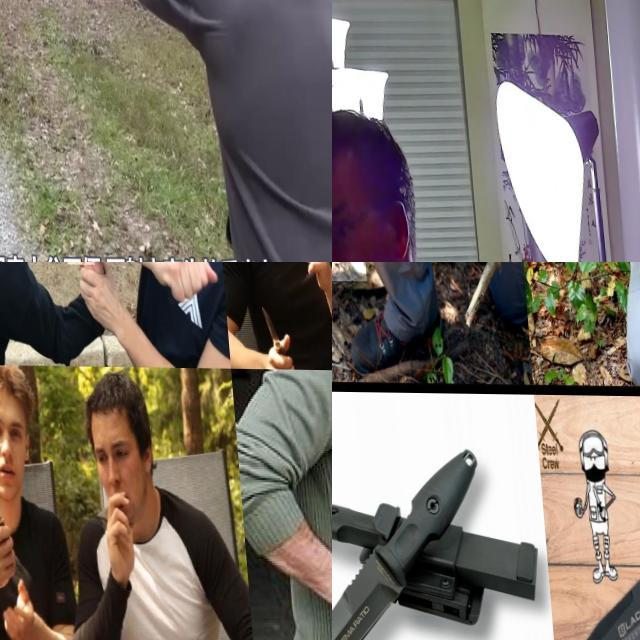-: (527, 398, 640, 640), (332, 542, 400, 640), (256, 300, 290, 368), (332, 262, 363, 324), (58, 262, 90, 301), (0, 465, 14, 550)
gun-knife-thesis - v11 Yolov5 augmented: (97, 0, 151, 38)
